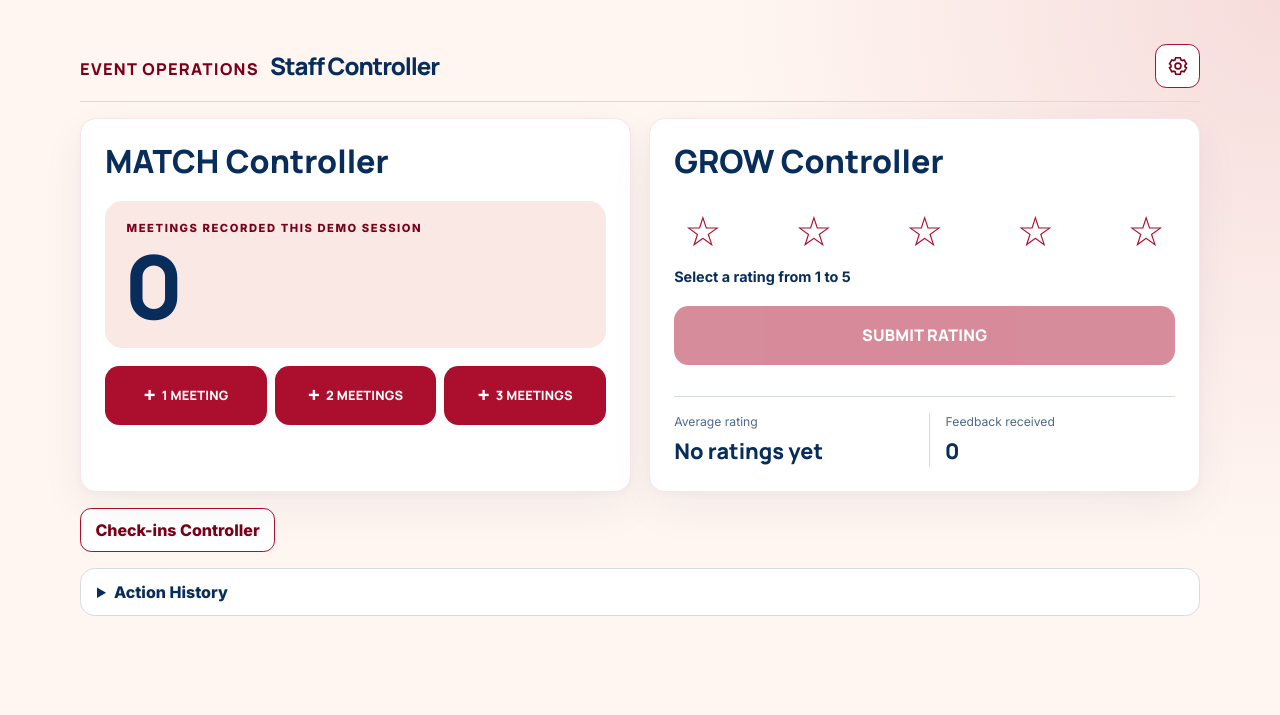
Test: StaffController › reverses a specific +3 action on one click and keeps the original visible
Click the button "+ 3 Meetings".
click(525, 395)  # box left=444, top=366, right=606, bottom=425
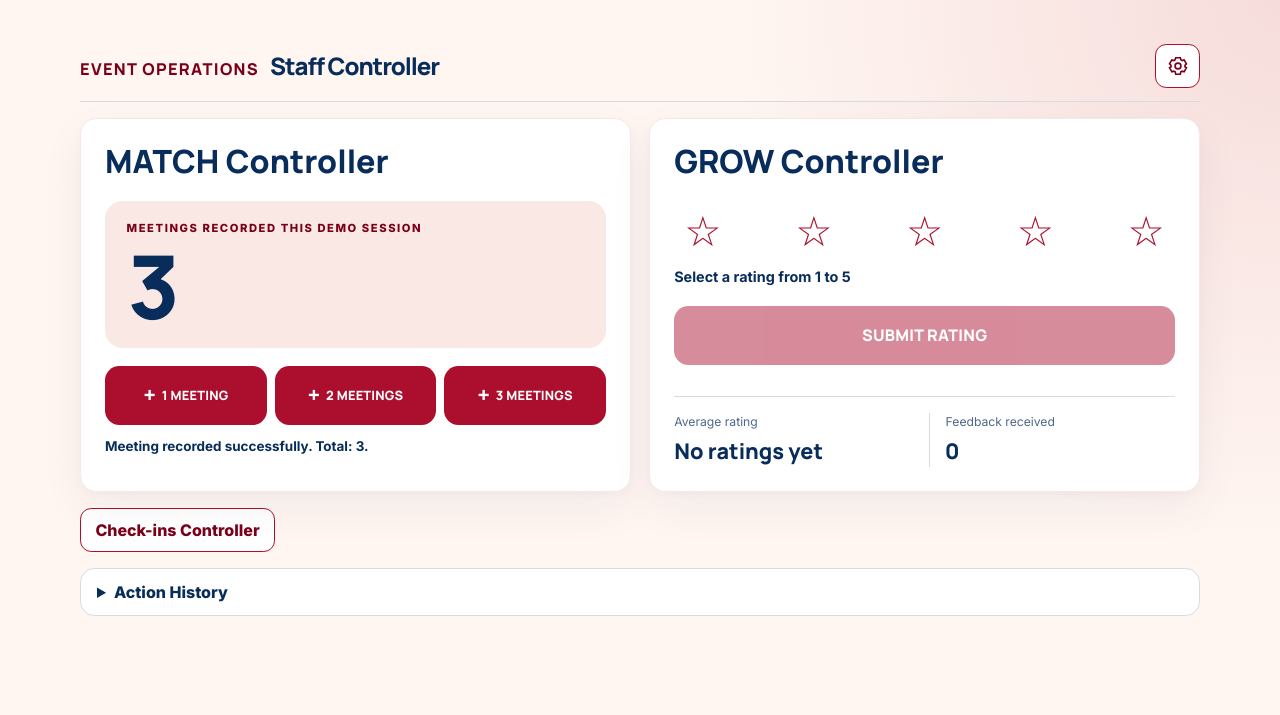
Result: the text named "3 completed meetings" is shown at left=127, top=225, right=173, bottom=345
Click the heading "Action History".
click(171, 592)  # box left=114, top=582, right=228, bottom=602
(page scrolled)
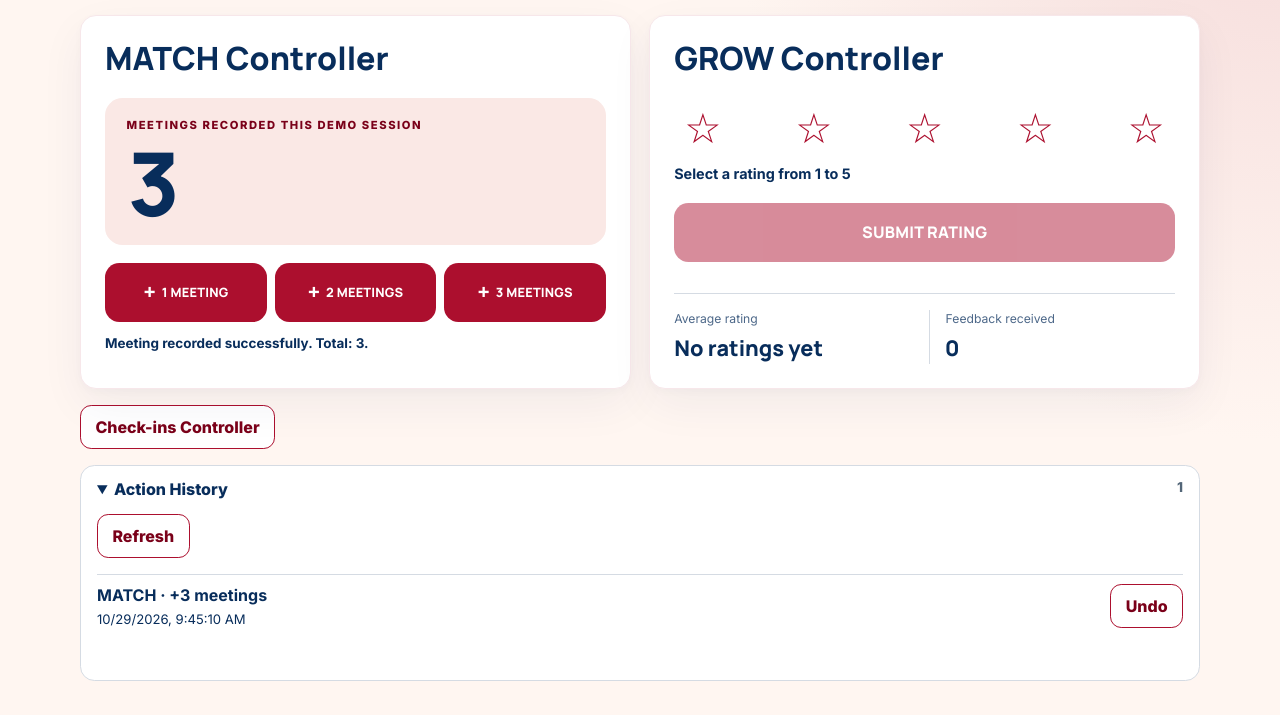
Click the button "Undo".
click(1147, 606)  # box left=1110, top=584, right=1183, bottom=628
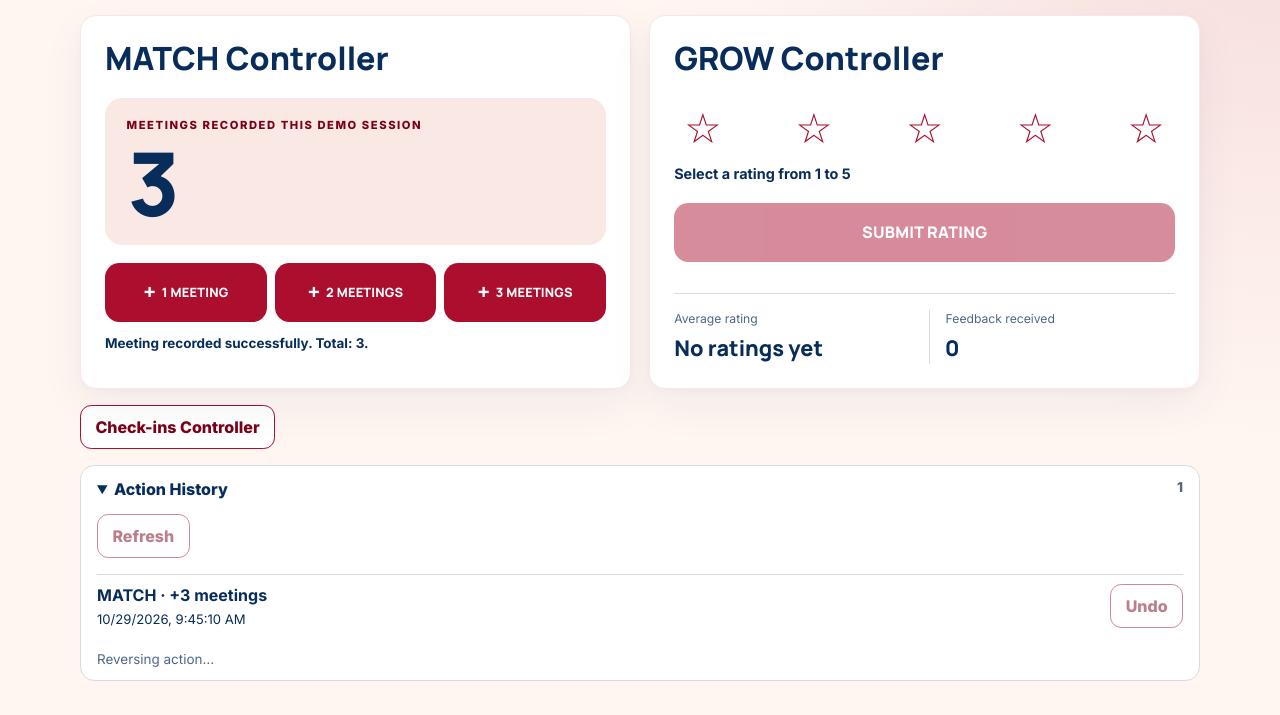
Click the button "Undo".
click(1147, 606)  # box left=1110, top=584, right=1183, bottom=628
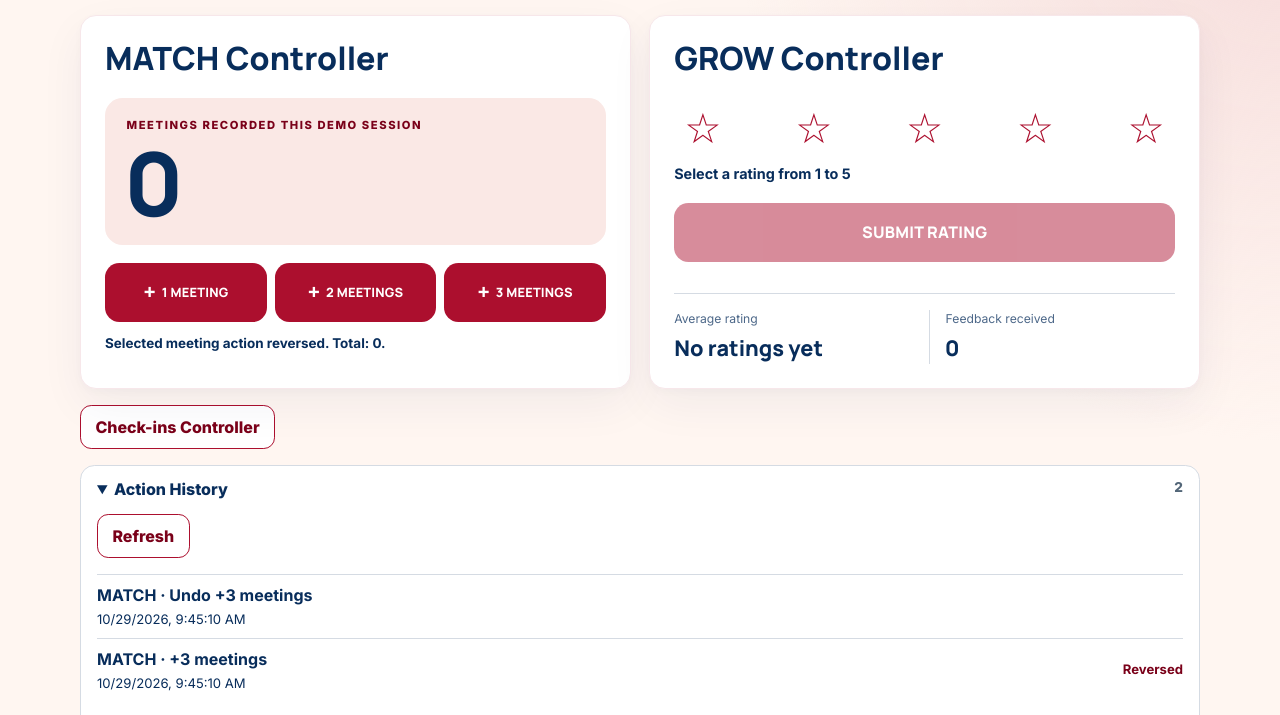
Result: the text named "0 completed meetings" is shown at left=127, top=122, right=173, bottom=242
Result: the text "Reversed" is shown at left=1123, top=660, right=1183, bottom=680
Result: the text "Selected meeting action reversed. Total: 0." is shown at left=105, top=335, right=386, bottom=351
